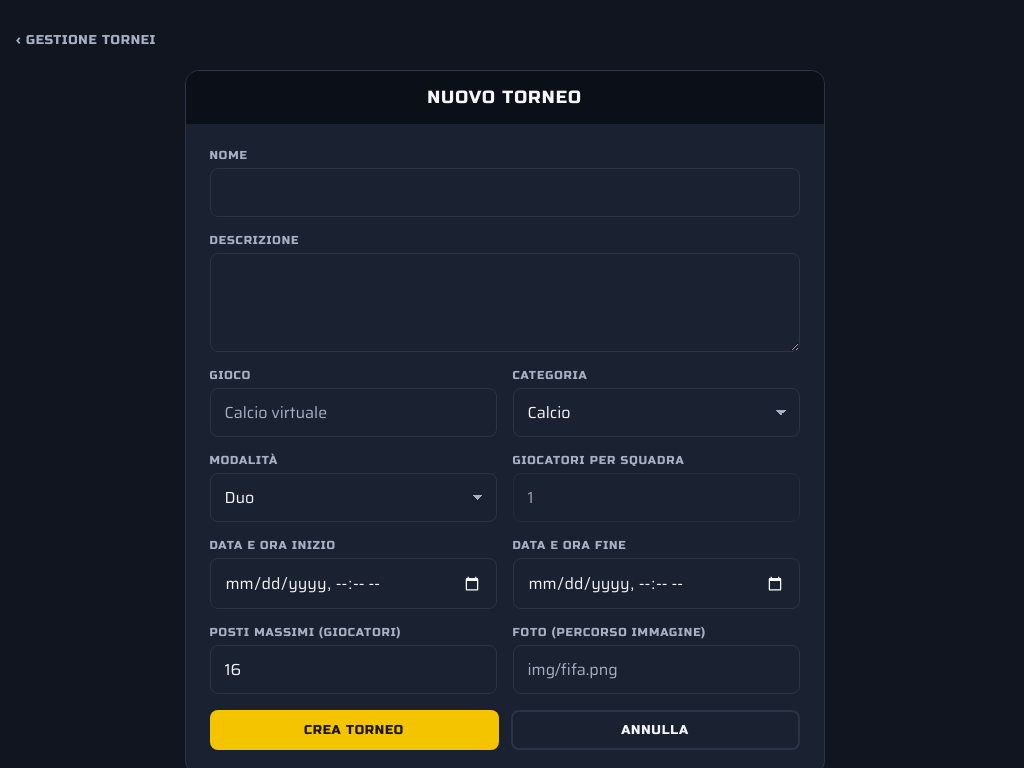
TorneoFormComponent › blocca i giocatori a 1 nel singolo e a 2 nel duo
Expected: the number field named "giocatoriPerSquadra" holds "1", [512,473,800,522]
Expected: the number field named "giocatoriPerSquadra" is disabled, [512,473,800,522]
Select "Duo" in the dropdown named "modalita" at [353, 498], box [210,473,496,522]
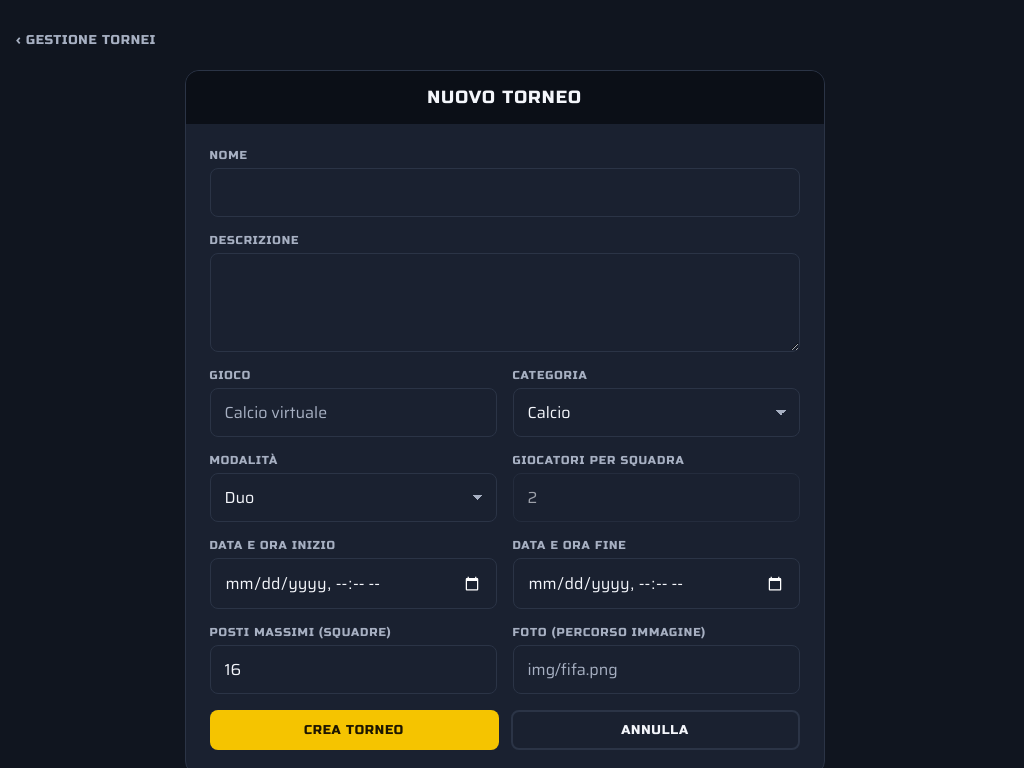
Expected: the number field named "giocatoriPerSquadra" is disabled, [512,473,800,522]
Expected: the number field named "giocatoriPerSquadra" holds "2", [512,473,800,522]
